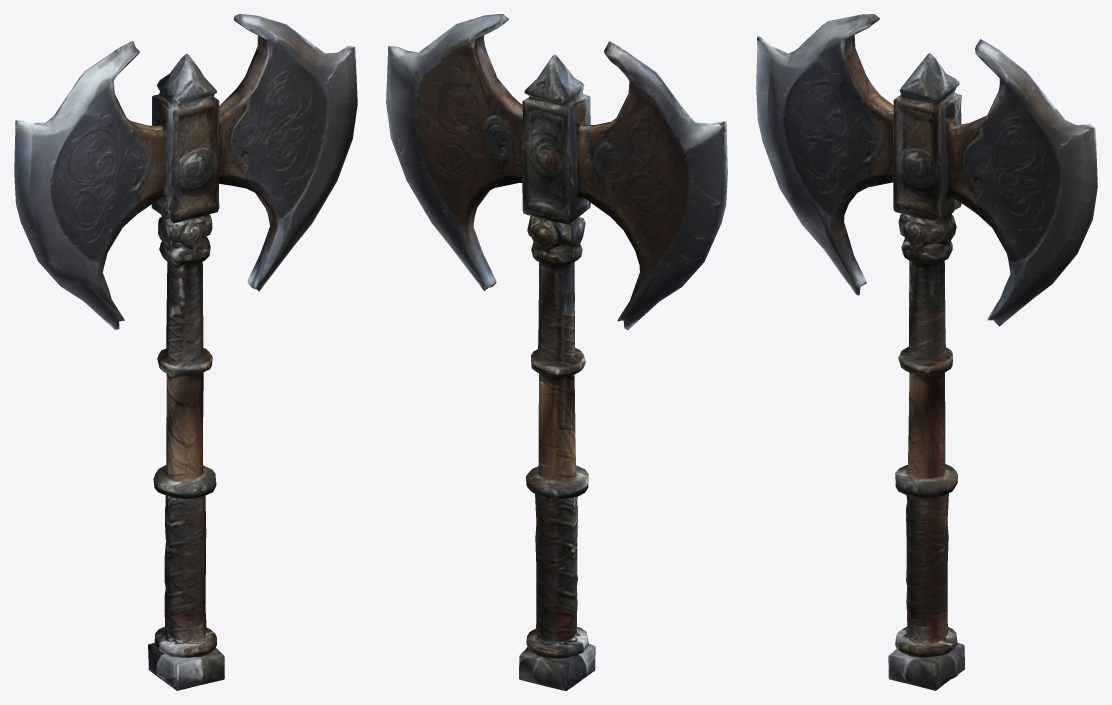
File: 1393_axe.glb
The picture shows the model from 3 angles, left to right: view 1: azimuth 30°, elevation 25°; view 2: azimuth 150°, elevation 25°; view 3: azimuth 330°, elevation 25°; orthographic projection.
Parts seen in each view (by area): view 1: Model; view 2: Model; view 3: Model.
Boxes of the visible parts, left/top/right/bottom form: Model: left=14, top=14, right=357, bottom=690; Model: left=386, top=14, right=727, bottom=690; Model: left=756, top=14, right=1097, bottom=690.
Size of the model in its own units: 0.546 by 1 by 0.1042.
Materials: 1 (1 with a texture image).
